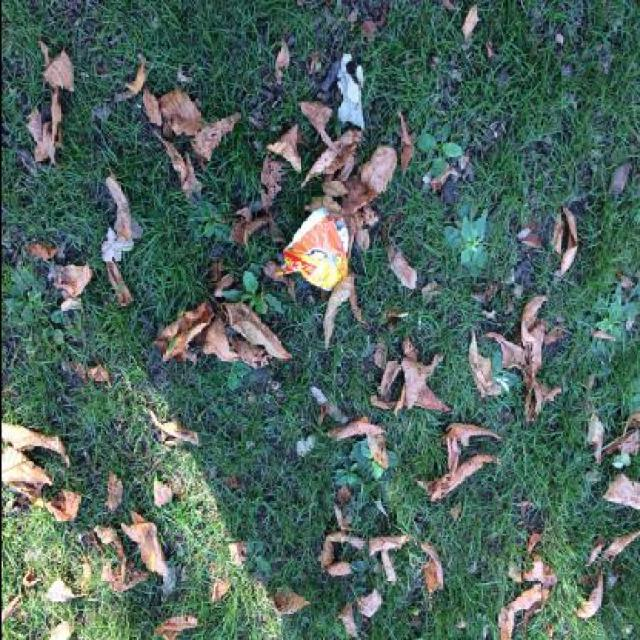plastic: (273, 206, 347, 294)
